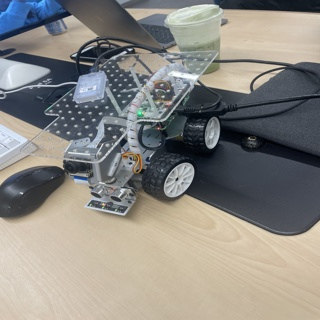vehicle: (20, 51, 221, 217)
